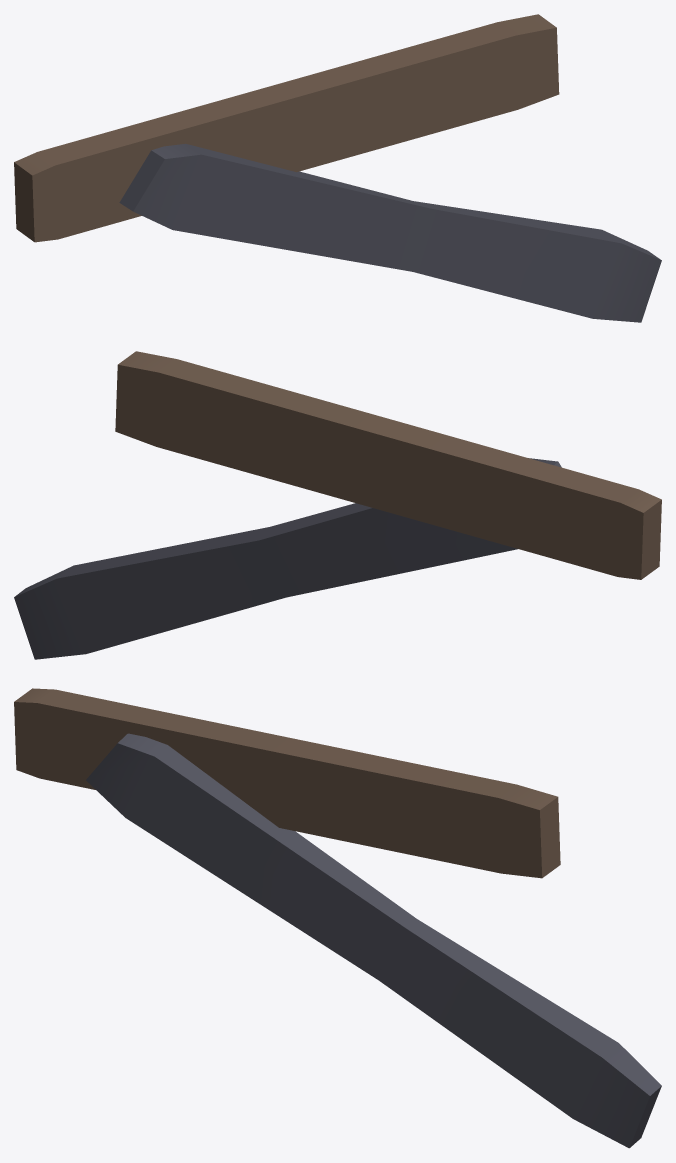
The model's file is SM_Prop_Shanty_BuildingAttachment_03.glb.
3 renders of one model, top to bottom at view 1: azimuth 30°, elevation 25°; view 2: azimuth 150°, elevation 25°; view 3: azimuth 330°, elevation 25°, orthographic.
Visible parts, largest first — view 1: SM_Prop_Shanty_BuildingAttachment_03; view 2: SM_Prop_Shanty_BuildingAttachment_03; view 3: SM_Prop_Shanty_BuildingAttachment_03.
Boxes of the visible parts, box(x1,y1,x2,y2) form: SM_Prop_Shanty_BuildingAttachment_03: box(14, 14, 661, 322); SM_Prop_Shanty_BuildingAttachment_03: box(14, 351, 661, 659); SM_Prop_Shanty_BuildingAttachment_03: box(14, 688, 661, 1148).
Bounding box in the file's own units: 0.0218 × 0.0106 × 0.00197.
